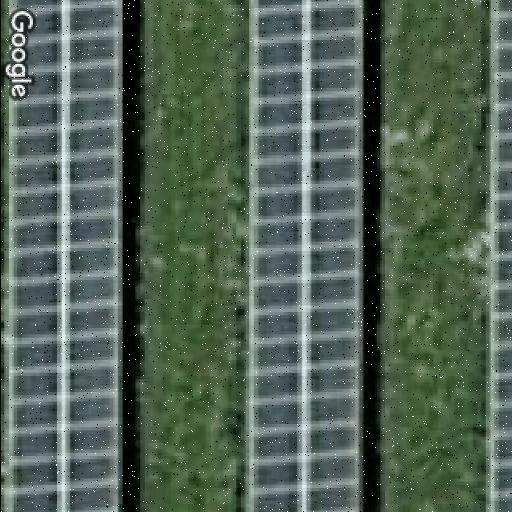solar-panel: (232, 0, 363, 512), (0, 0, 128, 512), (485, 0, 512, 512)
